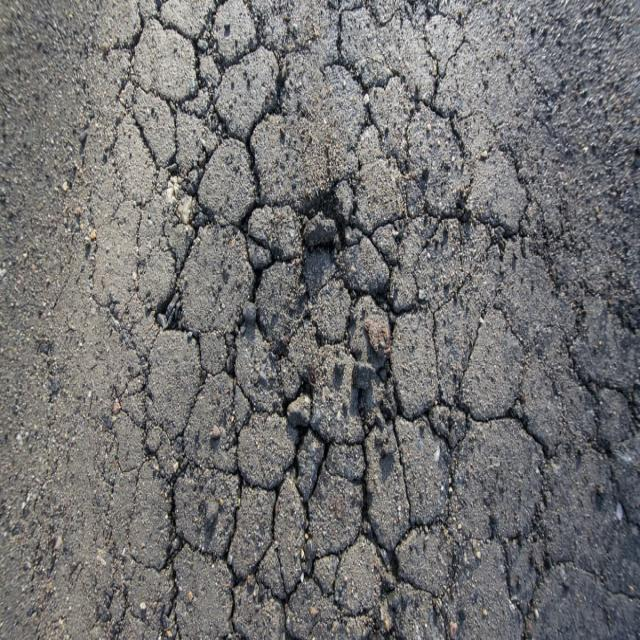Drain Hole: (168, 22, 486, 609)
